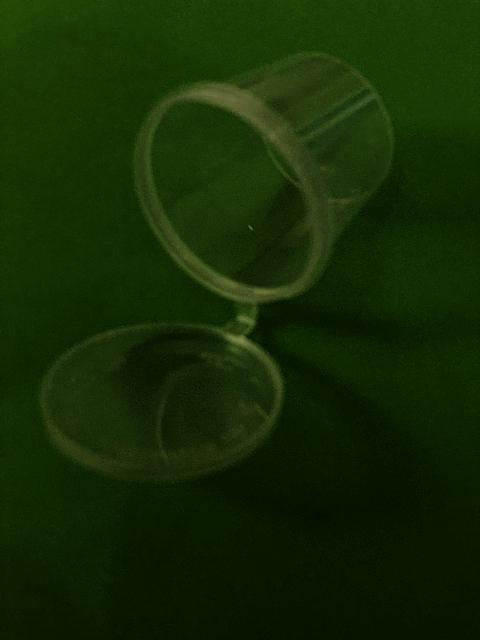plasticcontainer: (35, 46, 396, 488)
